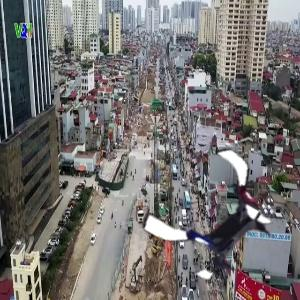drone: (150, 147, 285, 282)
